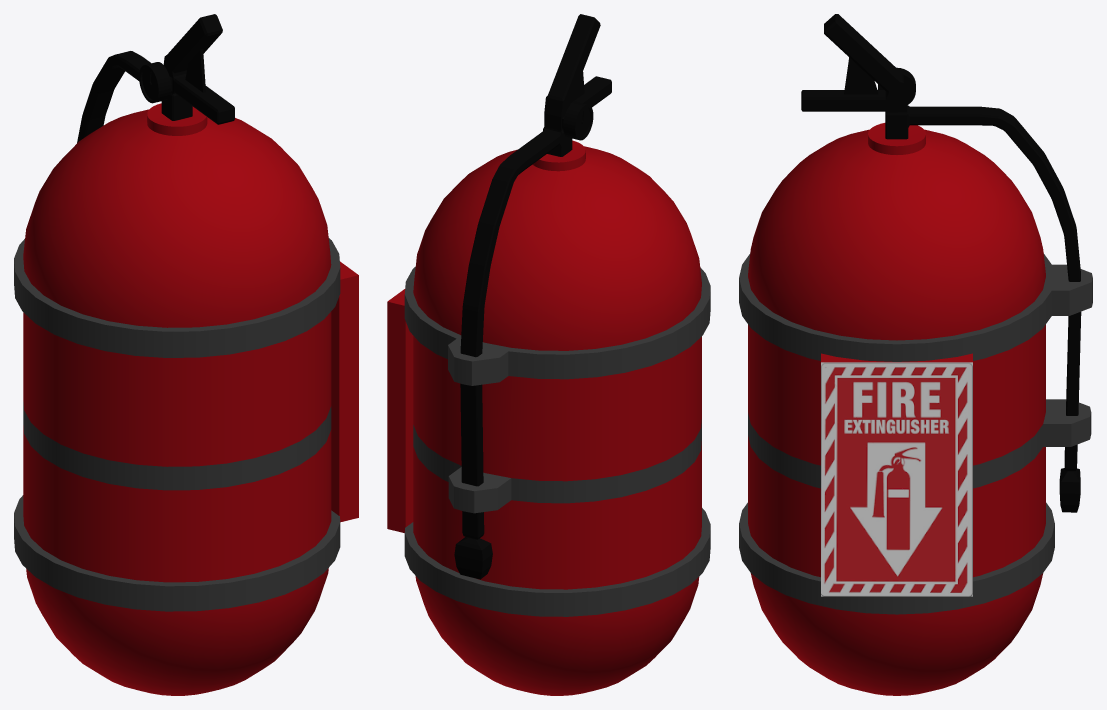
File: zapaljiv_usisivac.fbx
3 renders of one model, left to right at view 1: azimuth 30°, elevation 25°; view 2: azimuth 150°, elevation 25°; view 3: azimuth 270°, elevation 25°, orthographic. The views are drawn at different scales.
Parts seen in each view (by area): view 1: Cylinder, Sphere.001, Sphere, Cube, Cylinder.001; view 2: Cylinder, Sphere.001, Sphere, Cube, Cylinder.001; view 3: Cylinder, Sphere.001, Sphere, Cube.
Part boxes in pixels (<box>): Cylinder: <box>14,238,358,611</box>; Sphere.001: <box>23,103,331,327</box>; Sphere: <box>26,568,328,695</box>; Cube: <box>77,14,234,142</box>; Cylinder.001: <box>139,62,171,103</box>; Cylinder: <box>387,267,710,616</box>; Sphere.001: <box>413,140,701,350</box>; Sphere: <box>415,576,699,695</box>; Cube: <box>454,14,611,579</box>; Cylinder.001: <box>563,101,593,140</box>; Cylinder: <box>739,253,1092,614</box>; Sphere.001: <box>748,123,1045,340</box>; Sphere: <box>750,573,1043,695</box>; Cube: <box>801,14,1081,512</box>.
Size of the model in its own units: 212 by 492 by 237.
7 materials, 1 textured.
